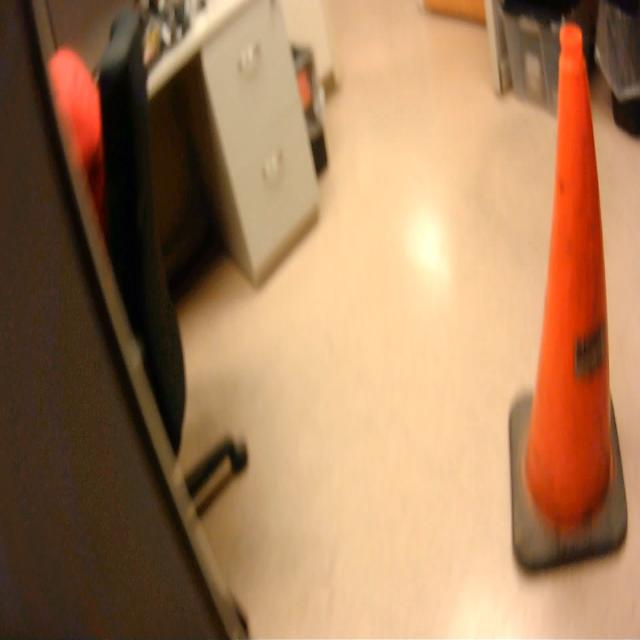traffic cone: (504, 17, 634, 593)
